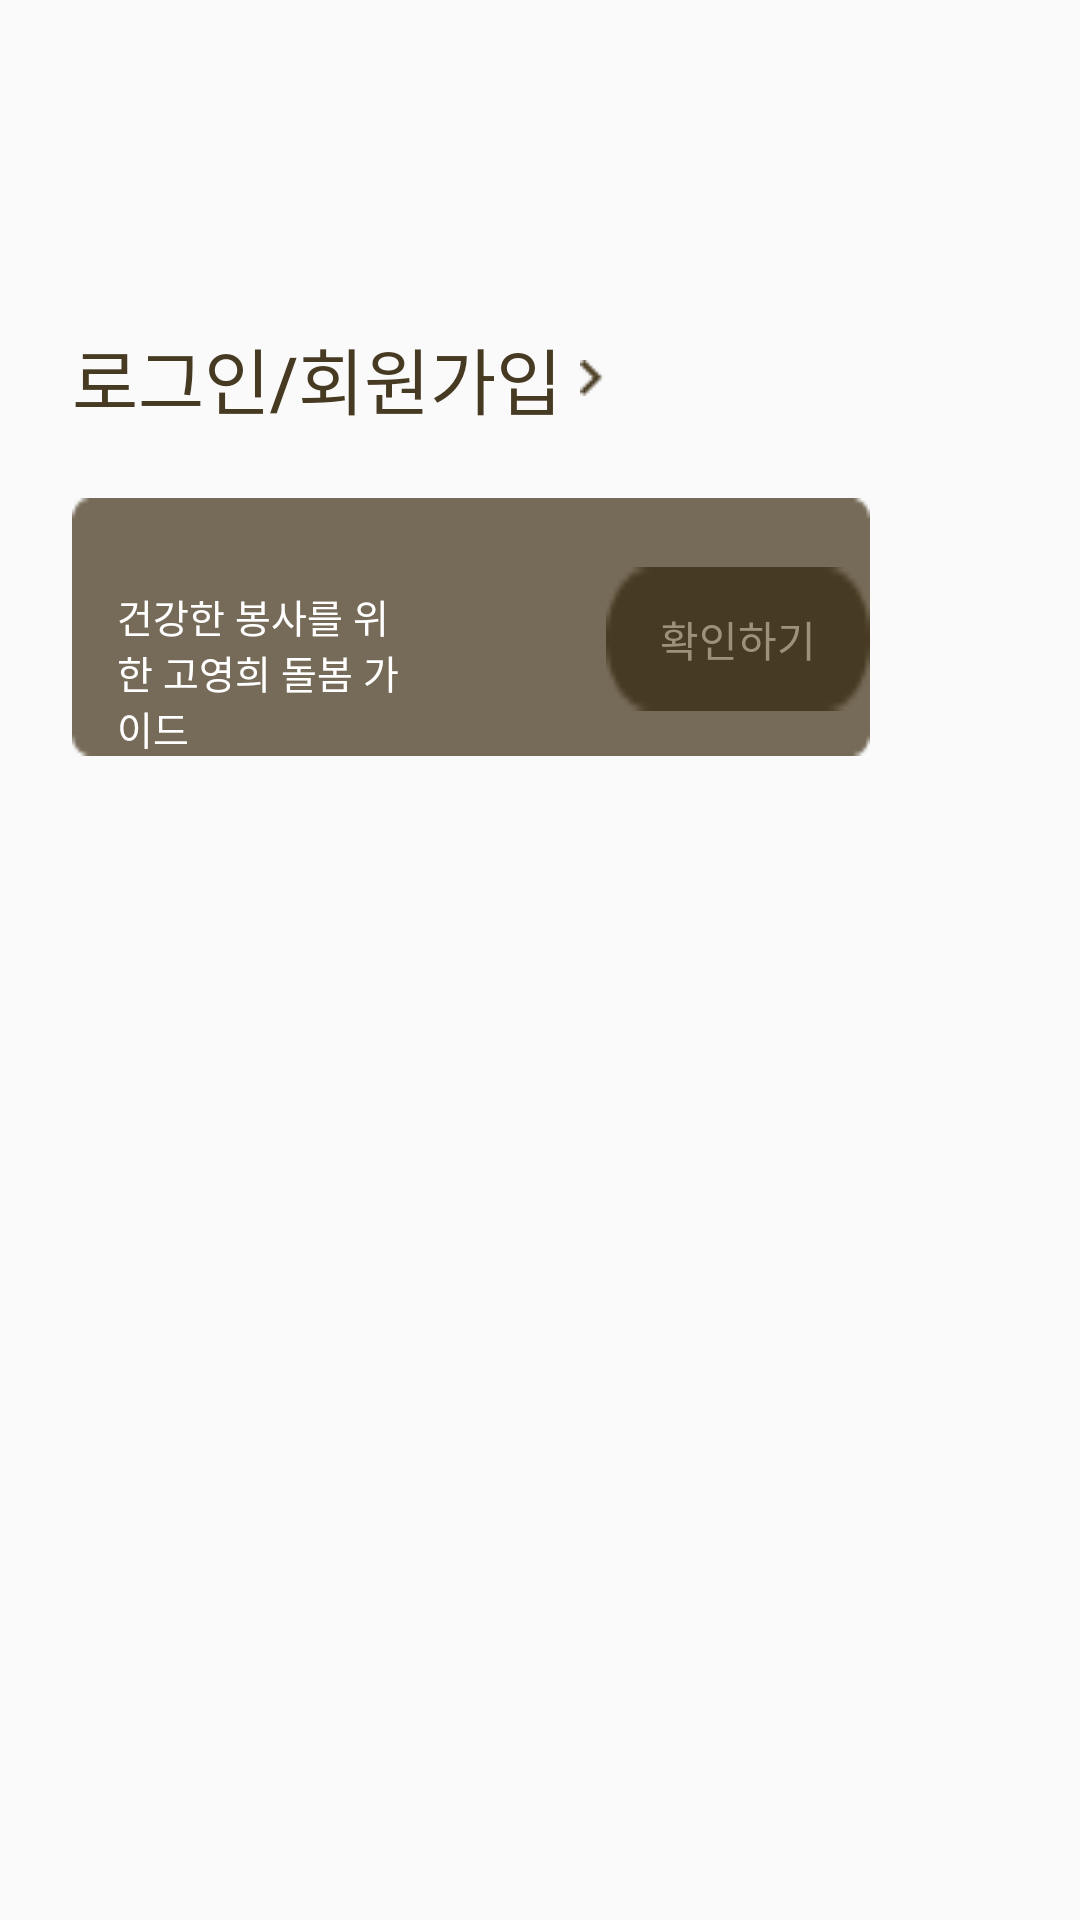

Where icons sit on this 1080 × 1920 app screen, as (x1=x1, y1=y1, x2=x2, y2=y2):
arrow: (x1=580, y1=360, x2=602, y2=396)
